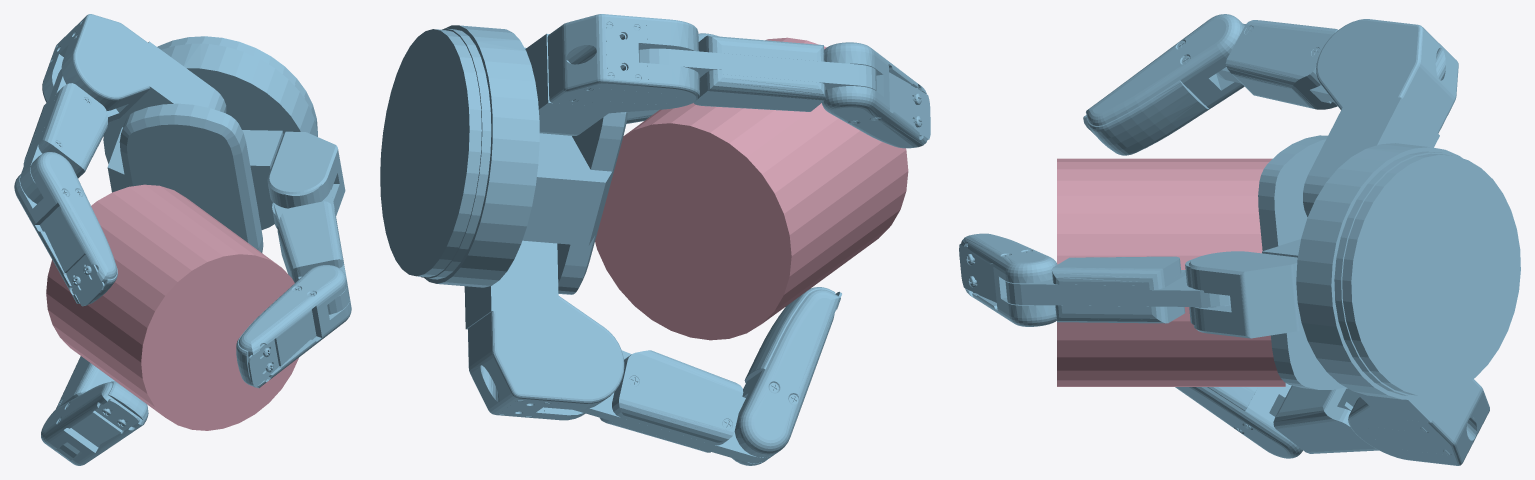
3 views of the same model, side by side, from view 1: azimuth 30°, elevation 25°; view 2: azimuth 150°, elevation 25°; view 3: azimuth 270°, elevation 25° (orthographic). The views are drawn at different scales.
Parts seen in each view (by area): view 1: world; view 2: world; view 3: world.
Part boxes in pixels (left/top/right/bottom): world: left=14, top=14, right=351, bottom=465; world: left=380, top=14, right=930, bottom=465; world: left=959, top=14, right=1520, bottom=465.
Size of the model in its own units: 0.1697 by 0.1818 by 0.1967.
